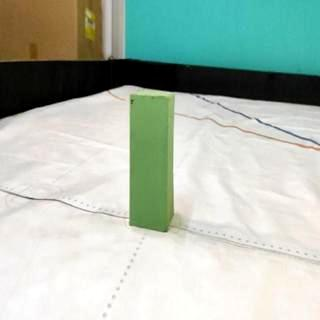greenbox: (130, 91, 174, 232)
